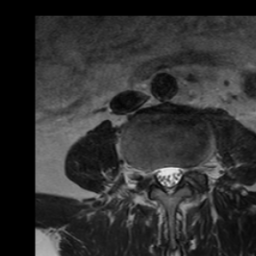CCS_normal: (164, 158, 174, 200)
LFS_stenosis: (182, 158, 193, 183)
LLS_normal: (174, 158, 182, 191)
RFS_stenosis: (142, 159, 155, 187)
RLS_normal: (155, 160, 164, 191)
